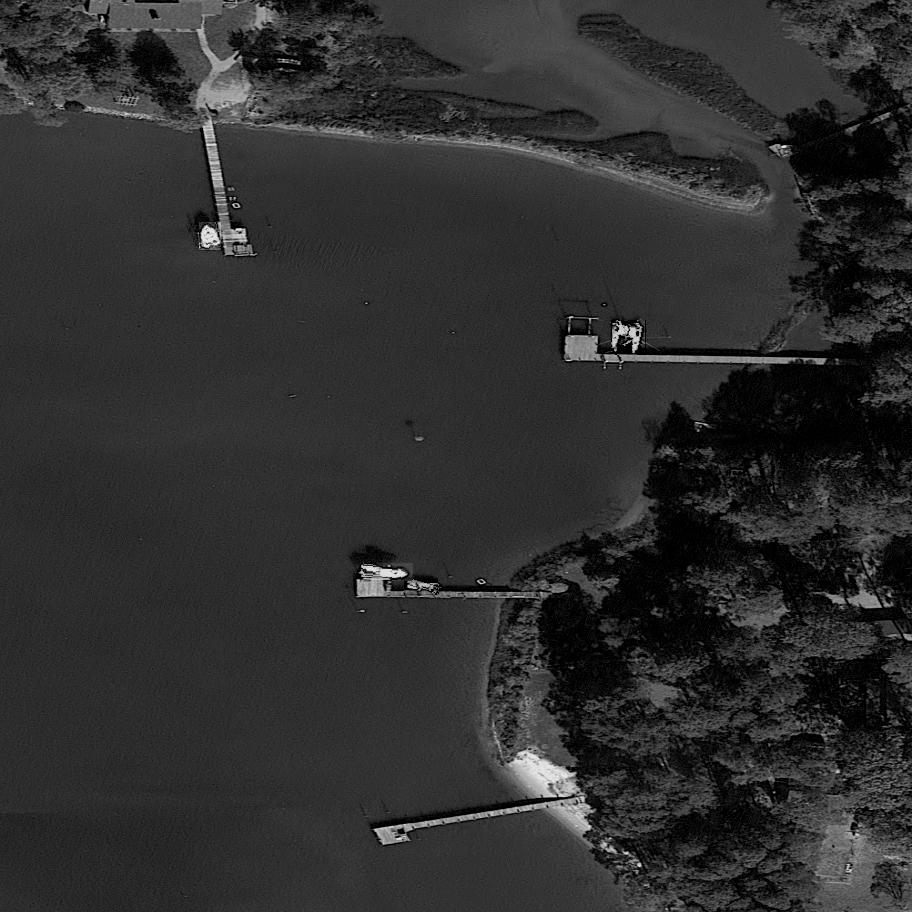ship: (612, 320, 648, 356), (361, 563, 414, 582), (199, 222, 223, 252), (405, 578, 440, 595)
